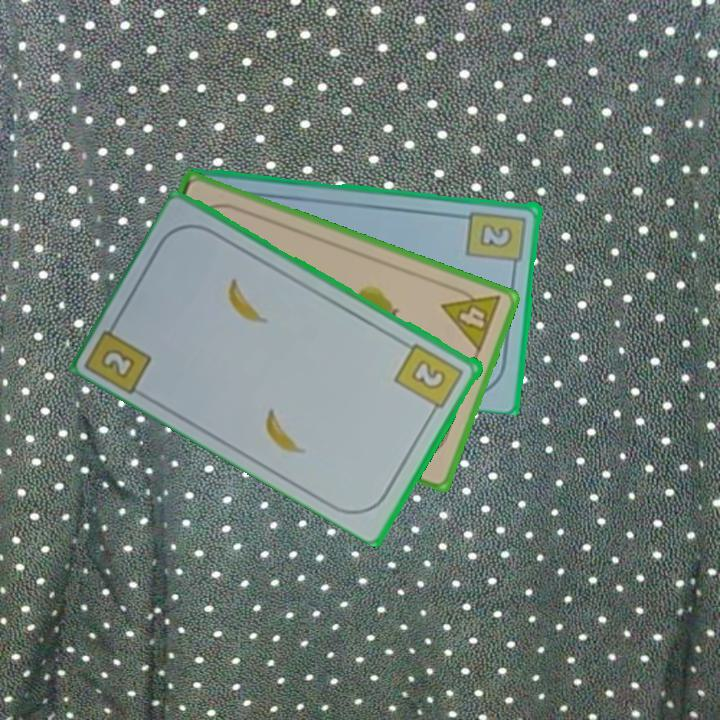2b: (391, 339, 467, 418), (85, 313, 156, 396), (464, 207, 529, 274)
4p: (438, 281, 504, 355)
